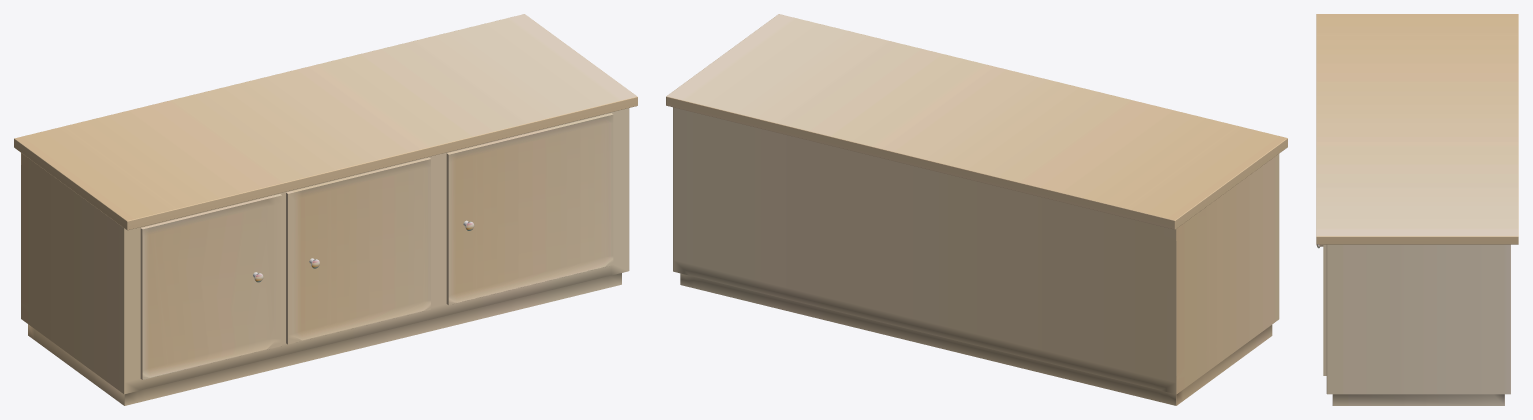
Rendered from kuecheMitteTextured.fbx.
The picture shows the model from 3 angles, left to right: view 1: azimuth 30°, elevation 25°; view 2: azimuth 150°, elevation 25°; view 3: azimuth 270°, elevation 25°; orthographic projection. The views are drawn at different scales.
Parts seen in each view (by area): view 1: pCube3; view 2: pCube3; view 3: pCube3.
Boxes of the visible parts, left/top/right/bottom form: pCube3: left=14, top=14, right=637, bottom=405; pCube3: left=666, top=14, right=1287, bottom=405; pCube3: left=1316, top=14, right=1518, bottom=405.
Size of the model in its own units: 2.86 by 1.03 by 1.1.
1 material, 1 textured.
